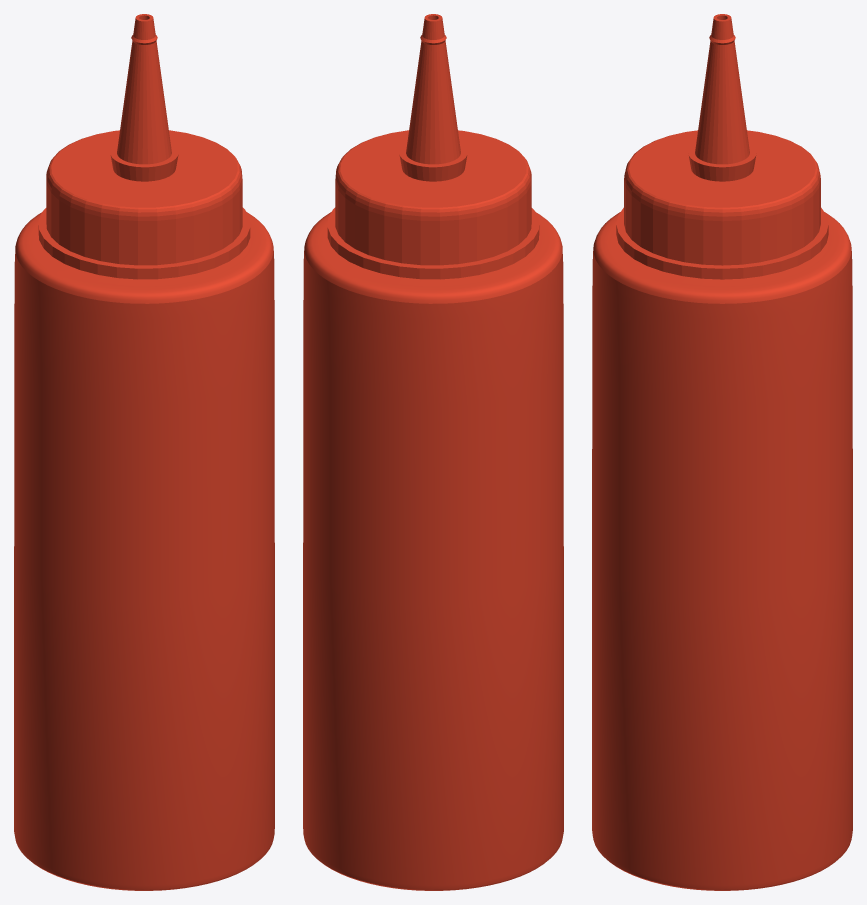
The model's file is sauce.glb.
3 renders of one model, left to right at view 1: azimuth 30°, elevation 25°; view 2: azimuth 150°, elevation 25°; view 3: azimuth 270°, elevation 25°, orthographic.
Visible parts, largest first — view 1: ketchup_bottle; view 2: ketchup_bottle; view 3: ketchup_bottle.
Boxes of the visible parts, box(x1,y1,x2,y2) form: ketchup_bottle: box(14, 14, 274, 890); ketchup_bottle: box(303, 14, 563, 890); ketchup_bottle: box(592, 14, 852, 890).
Bounding box in the file's own units: 113 × 391 × 113.
